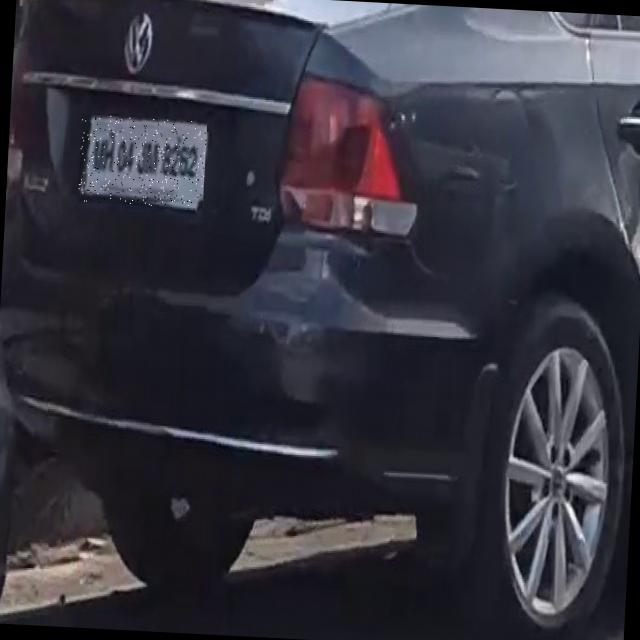Plate: (79, 116, 208, 210)
